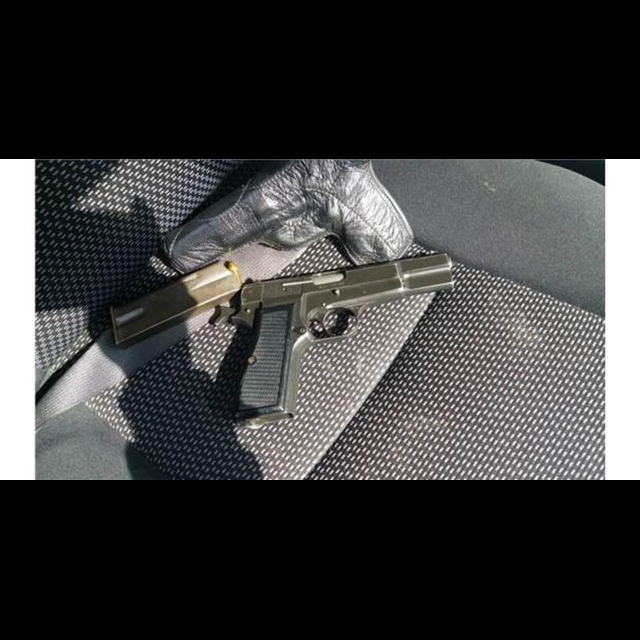SILAH: (232, 249, 461, 421)
